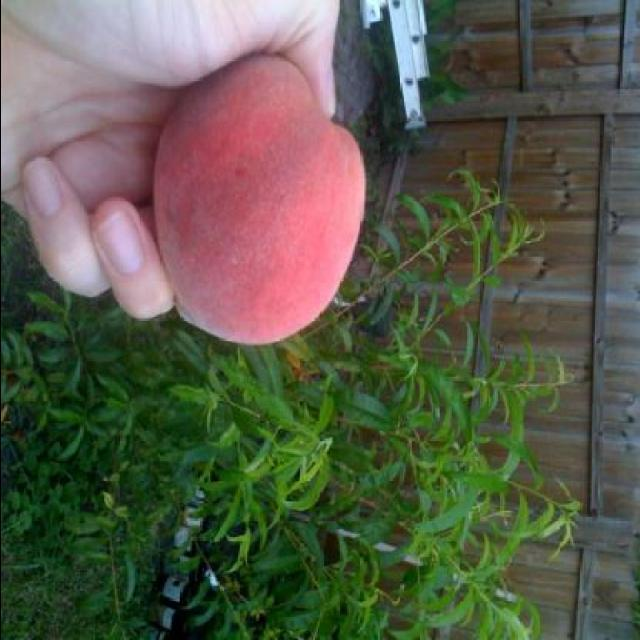Peach: (150, 52, 367, 346)
